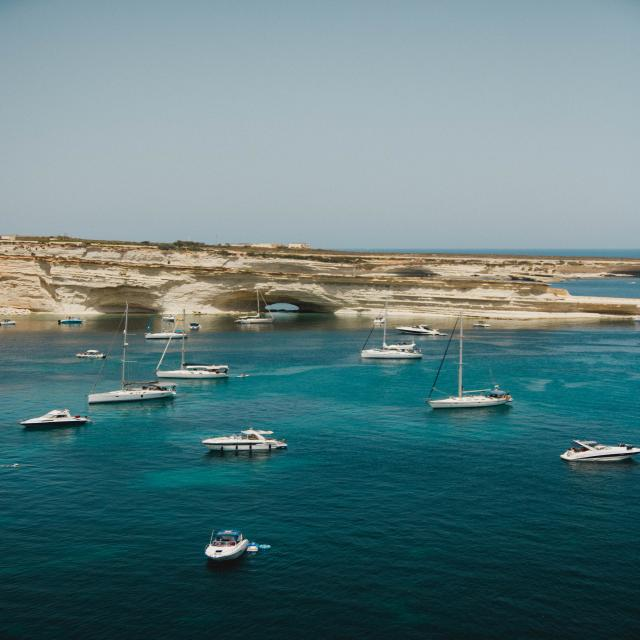ship: (85, 315, 177, 404), (432, 317, 511, 409), (150, 316, 234, 381), (362, 297, 424, 362), (554, 433, 640, 463), (196, 428, 288, 453), (196, 528, 258, 559), (15, 409, 92, 430), (241, 292, 277, 326), (396, 319, 445, 336), (72, 347, 107, 361)
